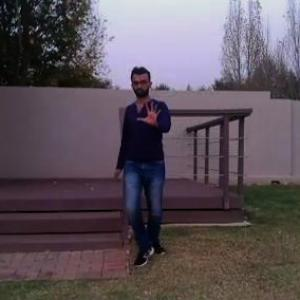follow_hand: (134, 96, 165, 130)
